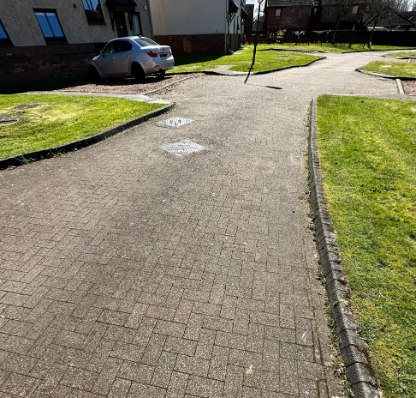car: (74, 30, 177, 88)
